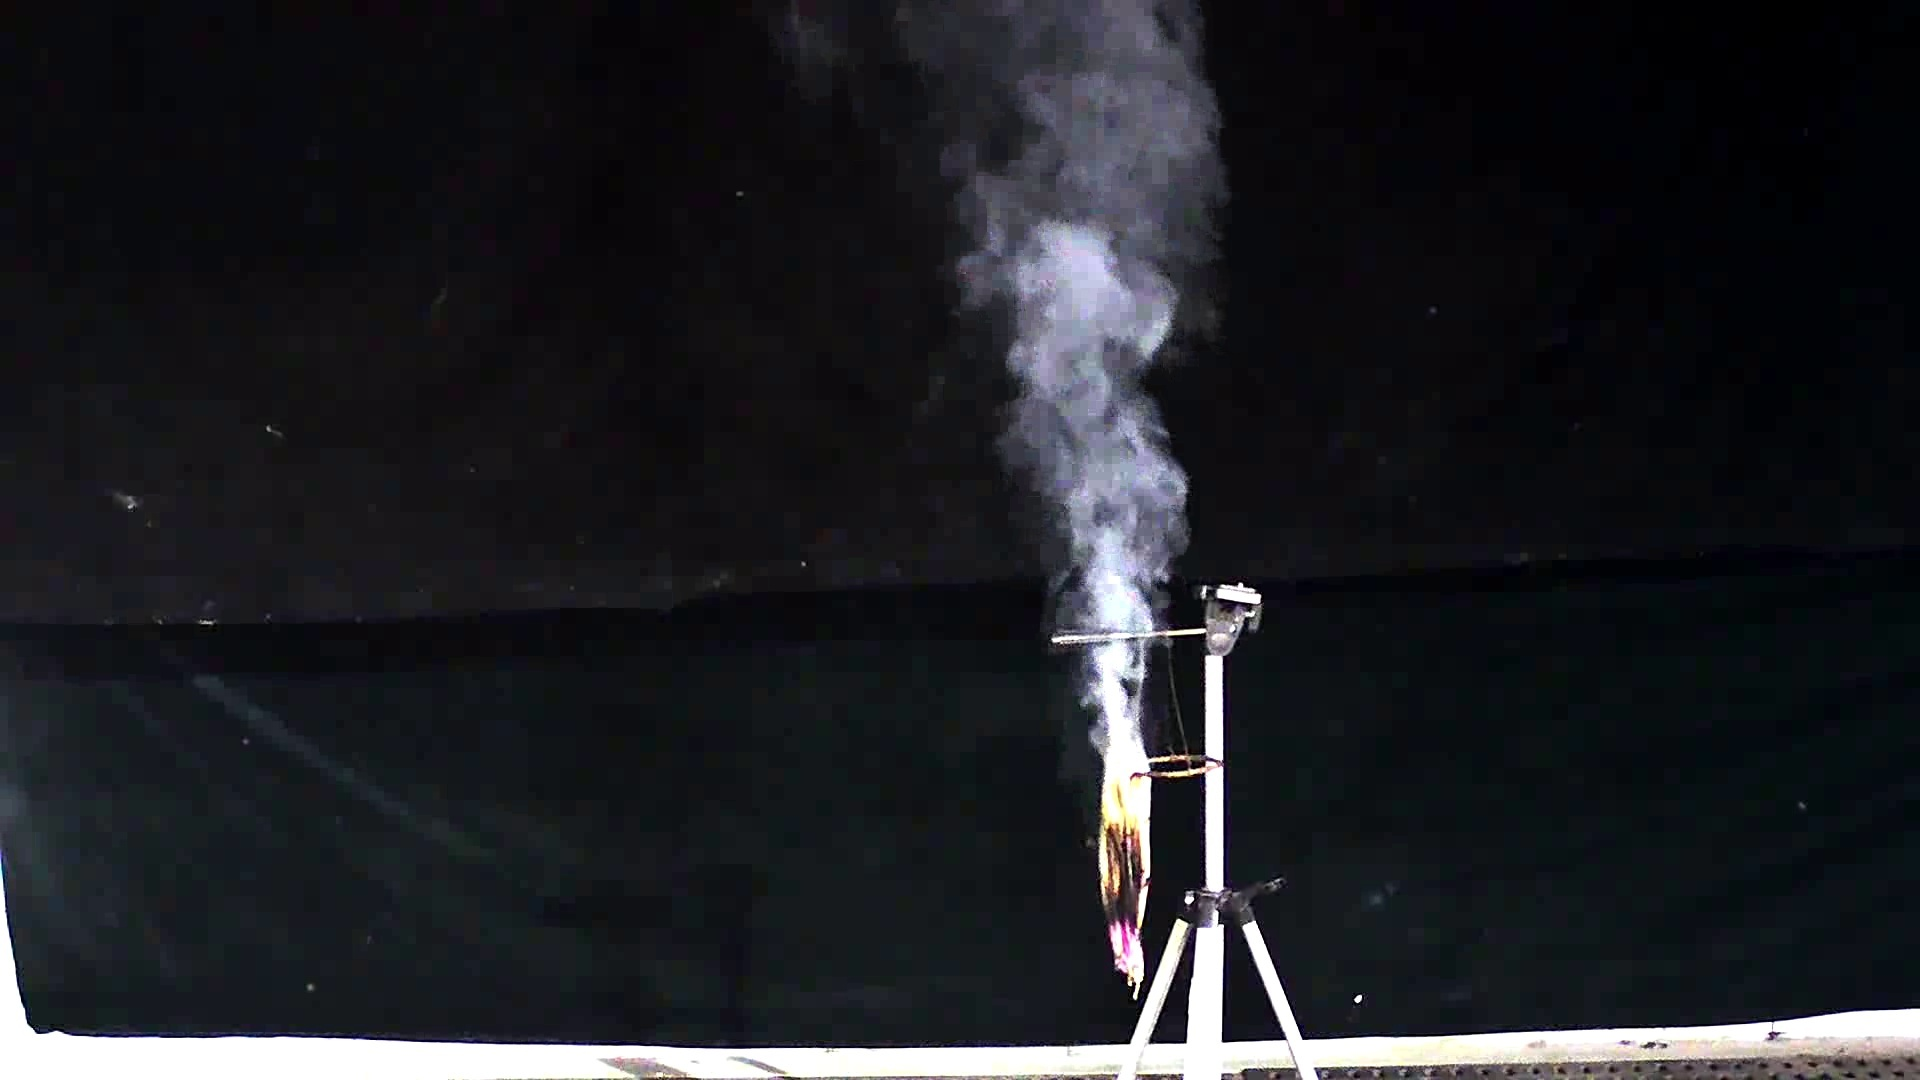smoke: (931, 57, 1192, 695)
